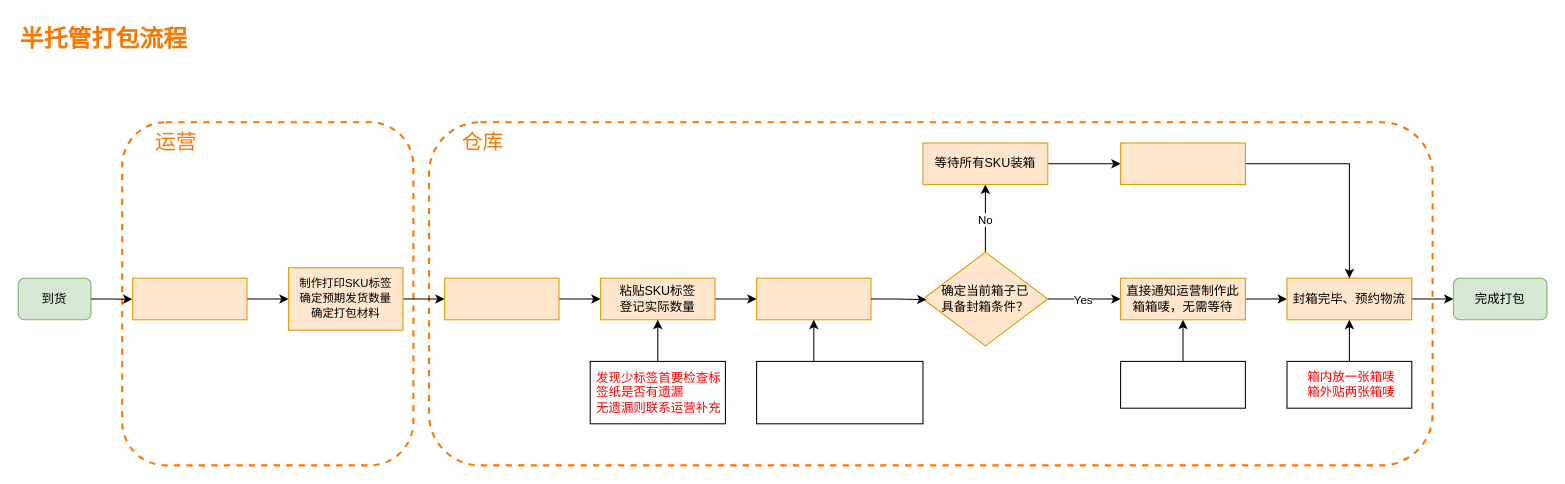
Some shapes in this 1565 by 484 pixel diagram are drawn without their labels. The centre of each missing label's shape, as x and y in pixels:
1. 6KG < 单箱重量 < 22KG 2. 单票总箱数 ≤ 6 3. 多个SKU进行物理分隔: pixel 839 392
初步验货 区分SKU: pixel 189 298
打包并区分次品: pixel 501 298
装箱: pixel 813 298
记录箱重: pixel 1182 384
通知运营登记每一箱SKU，制作箱唛: pixel 1182 163
